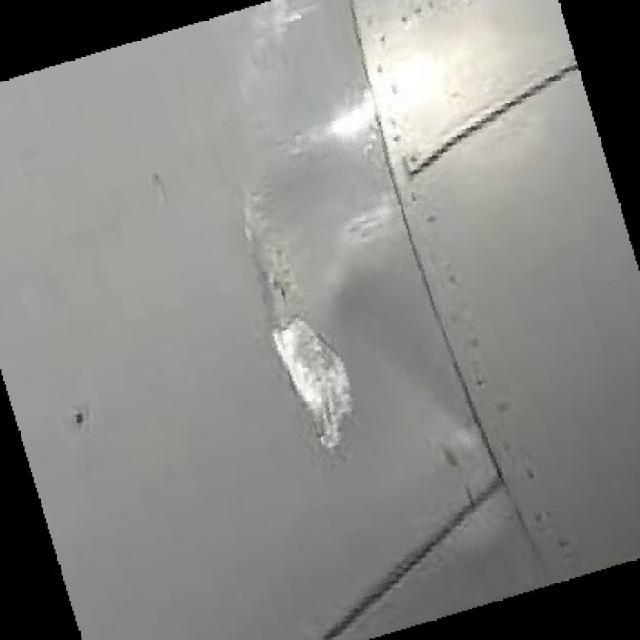dent: (238, 186, 358, 442), (364, 269, 480, 448)
